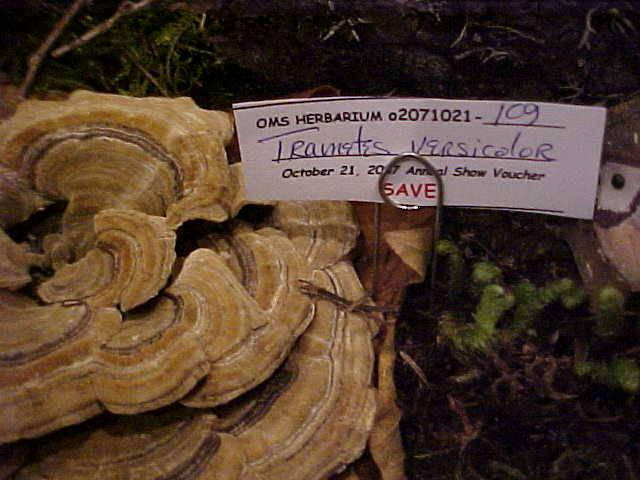poisonous_mushroom: (1, 86, 395, 478)
